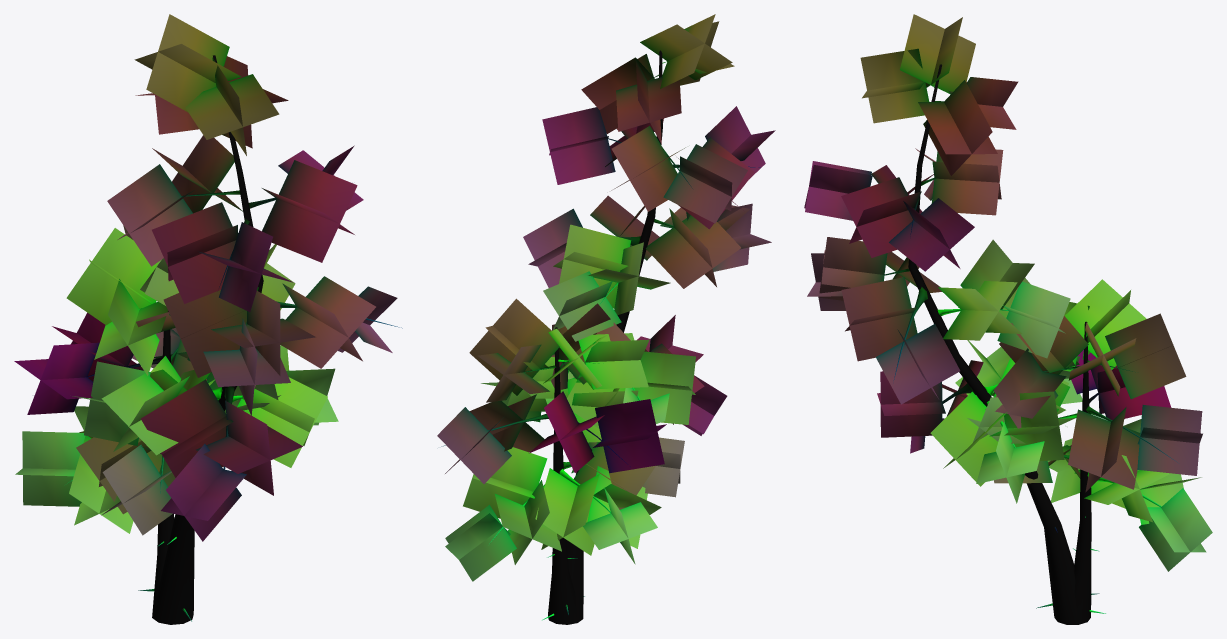
File: URP_P7_Tree_9_LOD_2.fbx
3 renders of one model, left to right at view 1: azimuth 30°, elevation 25°; view 2: azimuth 150°, elevation 25°; view 3: azimuth 270°, elevation 25°, orthographic. The views are drawn at different scales.
Parts seen in each view (by area): view 1: Tree_9_LOD_2; view 2: Tree_9_LOD_2; view 3: Tree_9_LOD_2.
Boxes of the visible parts, x1,y1,x2,y2 form: Tree_9_LOD_2: [14, 14, 402, 624]; Tree_9_LOD_2: [437, 14, 775, 624]; Tree_9_LOD_2: [804, 14, 1212, 624].
Bounding box in the file's own units: 246 × 578 × 374.
